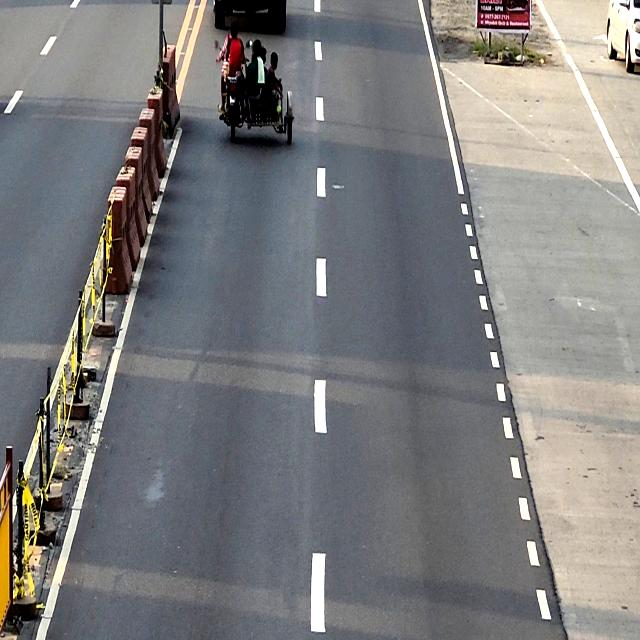Car: (606, 0, 640, 72)
Tricycle: (214, 41, 296, 147)
